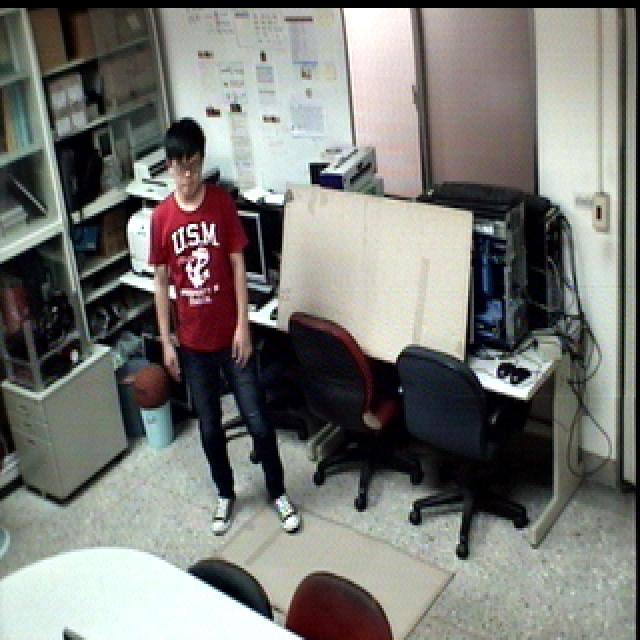stand: (136, 114, 308, 545)
